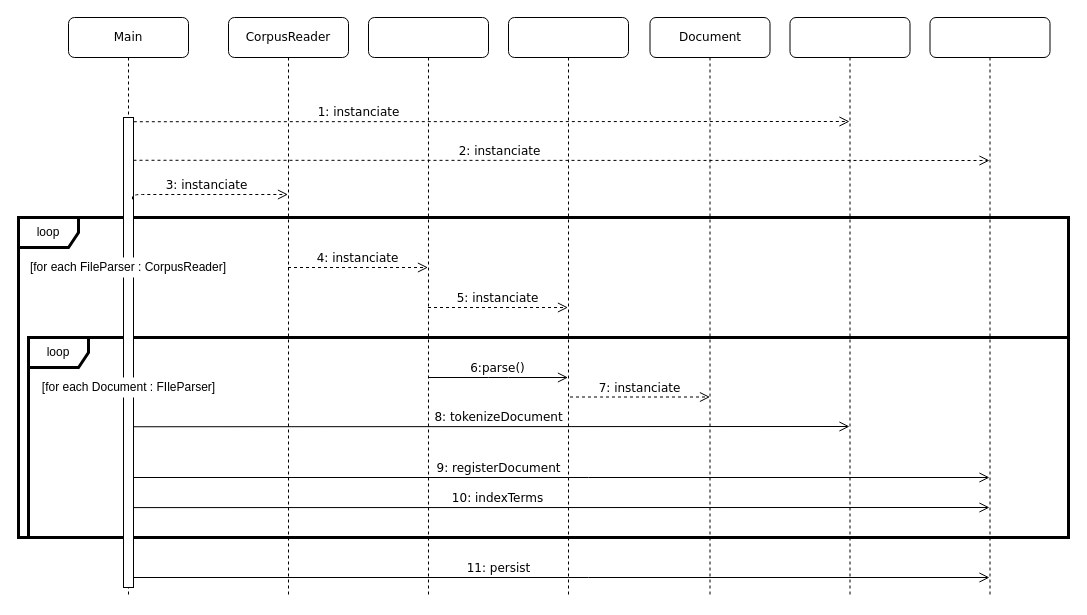
Image size: 1087x615. Some labels were removed from this diagram. The shapes that lost their labels are listed below. From the top down, each one's box as (x1, y1, x2, y2) in pixels, then its label:
(368, 16, 488, 598): FileParser
(508, 16, 628, 598): DocumentParser
(789, 16, 910, 598): BaseTokenizer
(929, 16, 1050, 598): BaseIndexer
